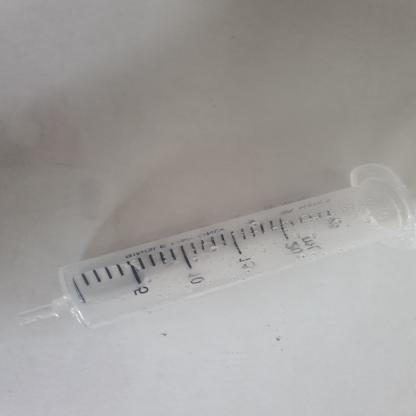wet: (17, 162, 410, 338)
